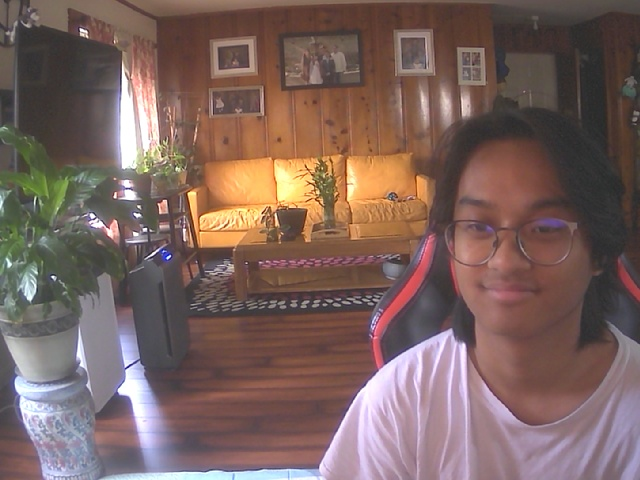happy: (433, 122, 619, 340)
